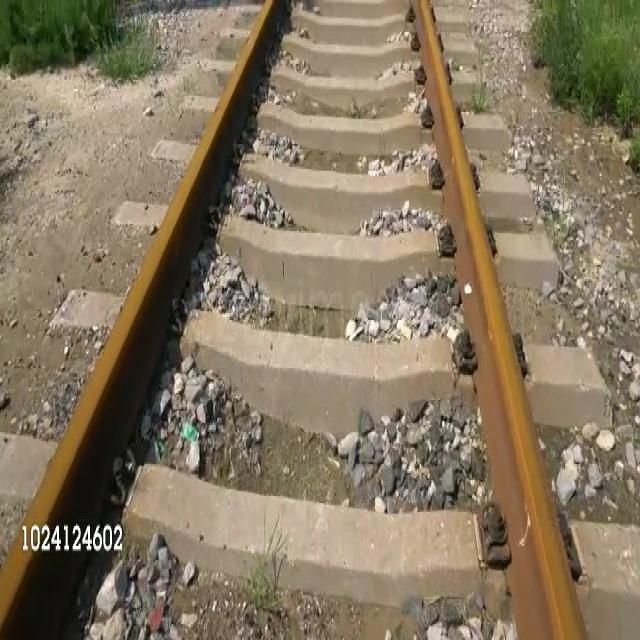Plant: (525, 0, 639, 139), (0, 0, 116, 75), (241, 504, 284, 603), (96, 22, 151, 75), (471, 77, 488, 110), (625, 134, 639, 174)
